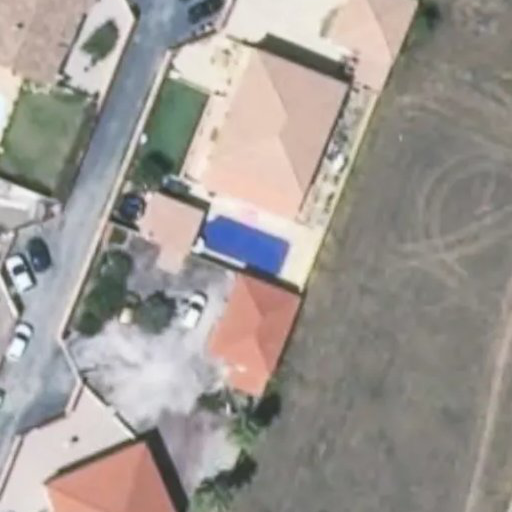pool: (193, 211, 294, 281)
